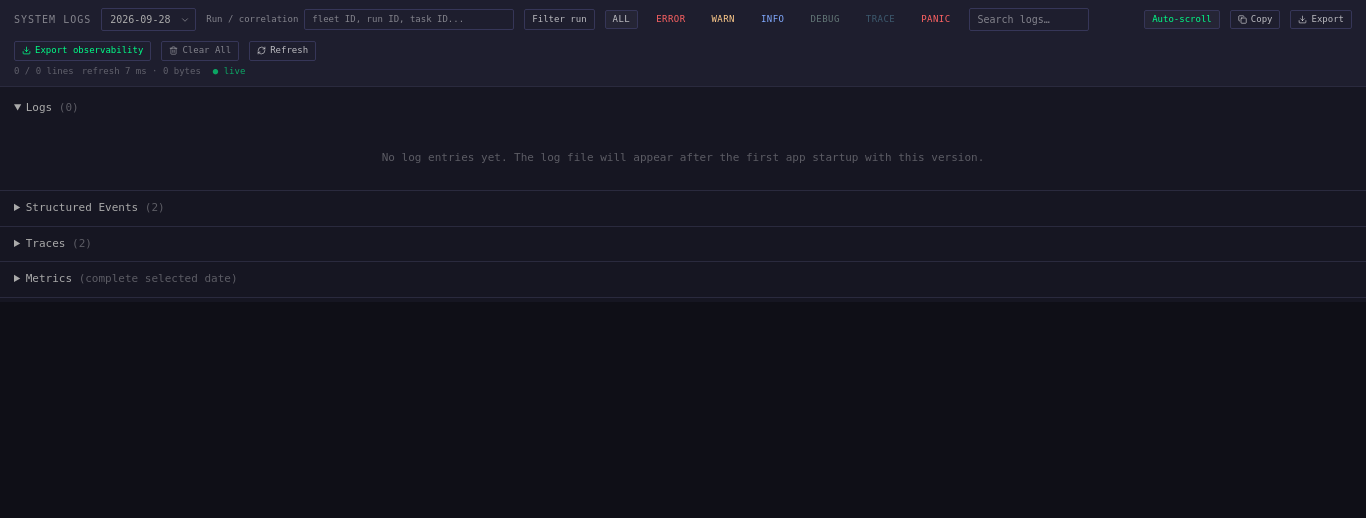
Test case: Logs tab › keeps trace trees separate across runs and filters by correlation
Click the heading "Traces (2)".
click(59, 243)  # box 26,236 -> 92,250
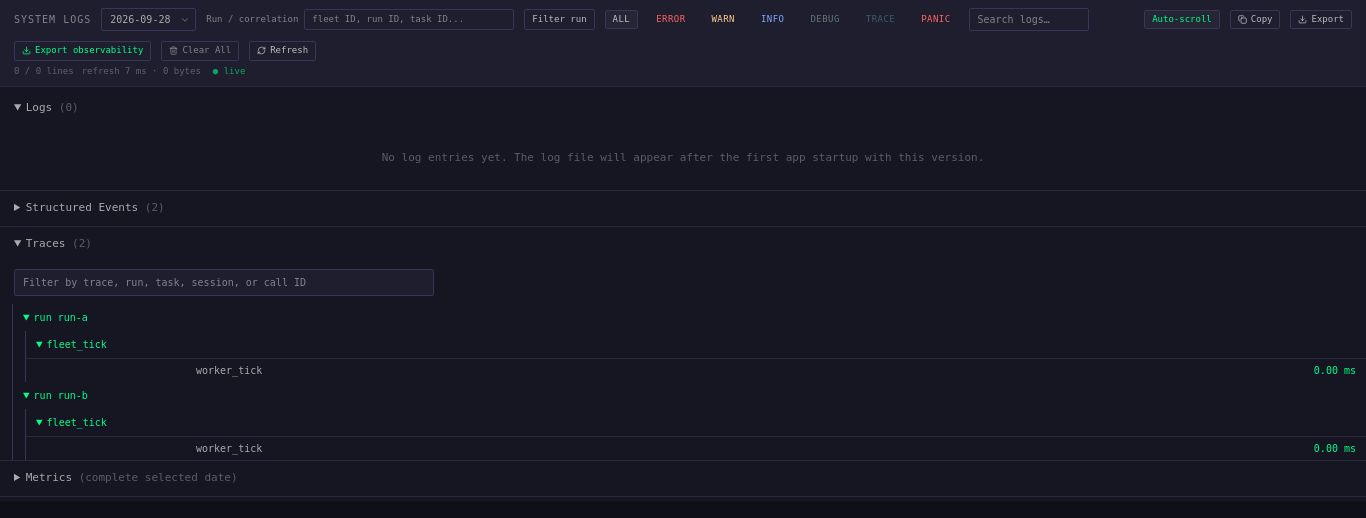
Expected: the text "run run-a" is shown, 34,312 -> 88,323
Expected: the text "run run-b" is shown, 34,390 -> 88,401
Type "run-b" into the search field named "Filter traces by correlation".
click(224, 282); type("run-b")  # box 14,269 -> 434,296
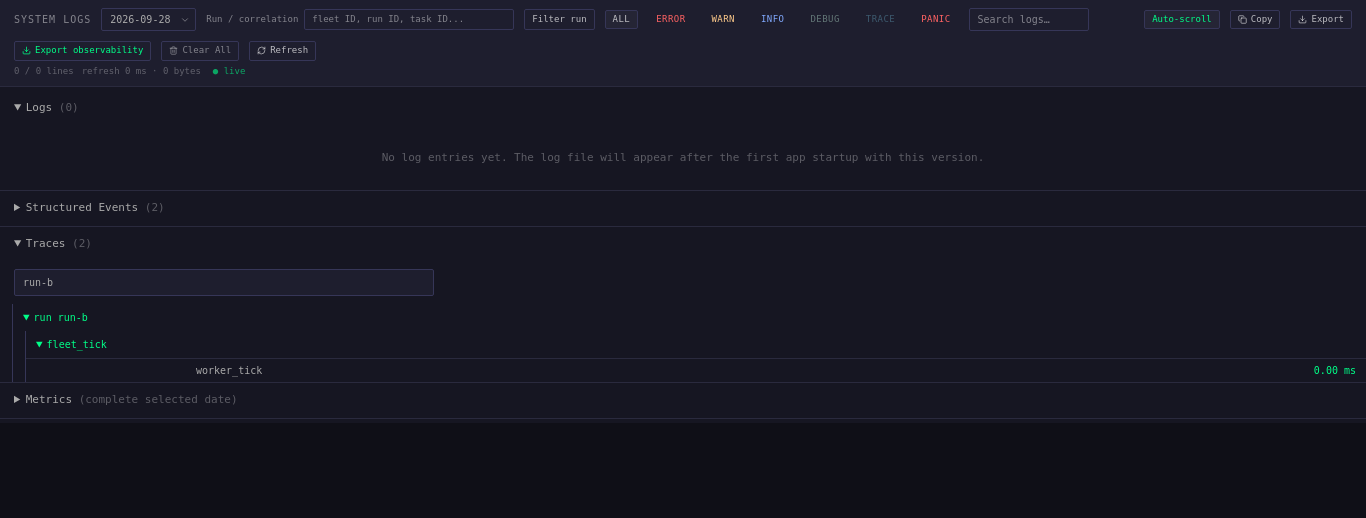
Expected: the text "run run-b" is shown, 34,312 -> 88,323
Expected: the heading "run run-a" is gone
